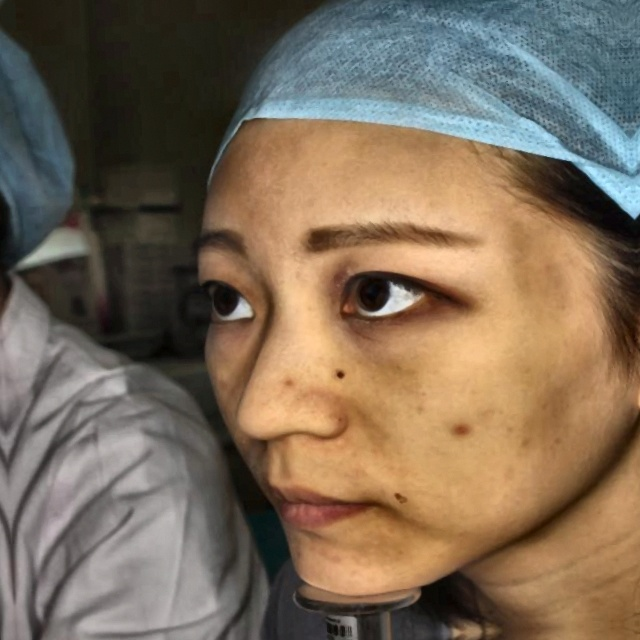comedone: (441, 415, 471, 443)
